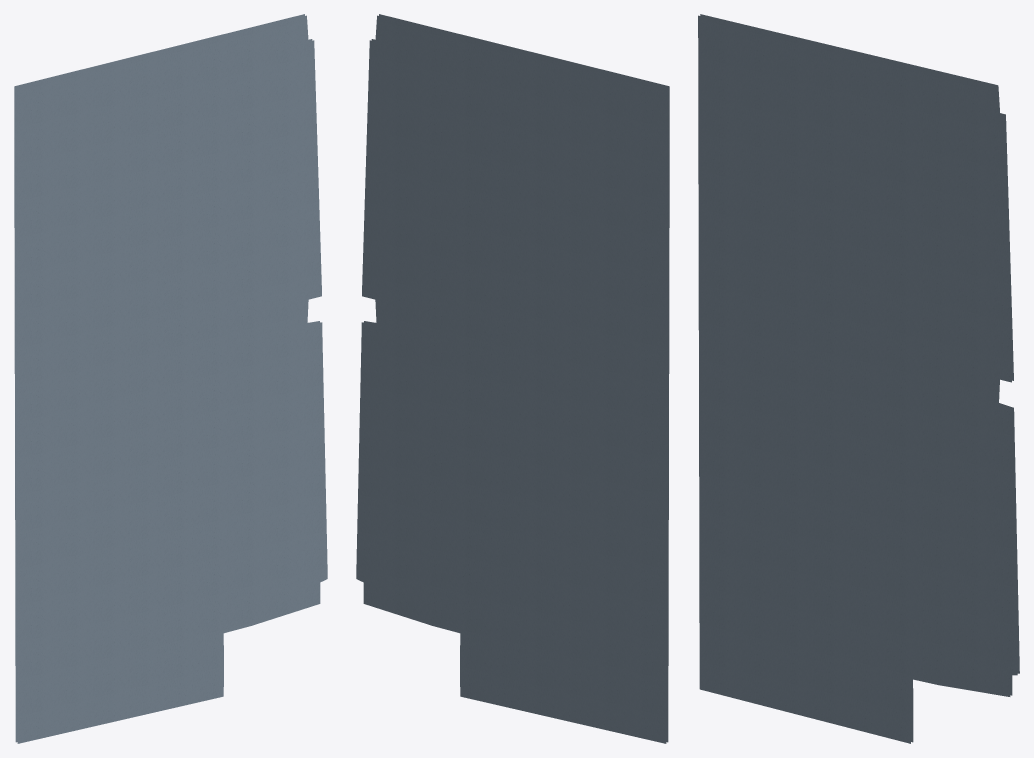
The model's file is floor_20.obj.
3 renders of one model, left to right at view 1: azimuth 30°, elevation 25°; view 2: azimuth 150°, elevation 25°; view 3: azimuth 330°, elevation 25°, orthographic. The views are drawn at different scales.
Parts seen in each view (by area): view 1: floor_20; view 2: floor_20; view 3: floor_20.
Boxes of the visible parts, x1,y1,x2,y2 form: floor_20: (14,14,327,743); floor_20: (356,14,669,743); floor_20: (698,14,1019,743).
Size of the model in its own units: 8.86 by 17.96 by 0.1.
Materials: 1 (1 with a texture image).
